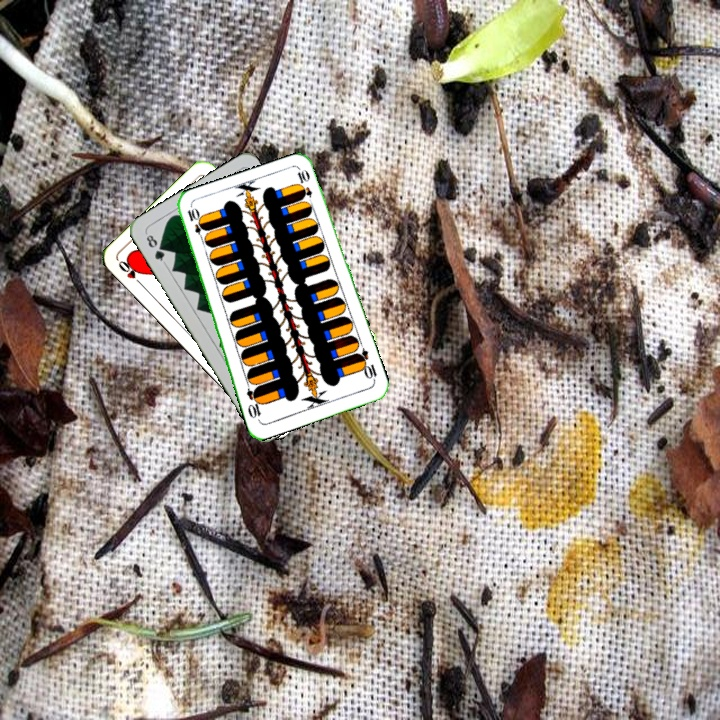E10: (353, 345, 380, 384), (183, 204, 207, 244)
G8: (142, 229, 168, 266)
HO: (114, 255, 146, 289)
